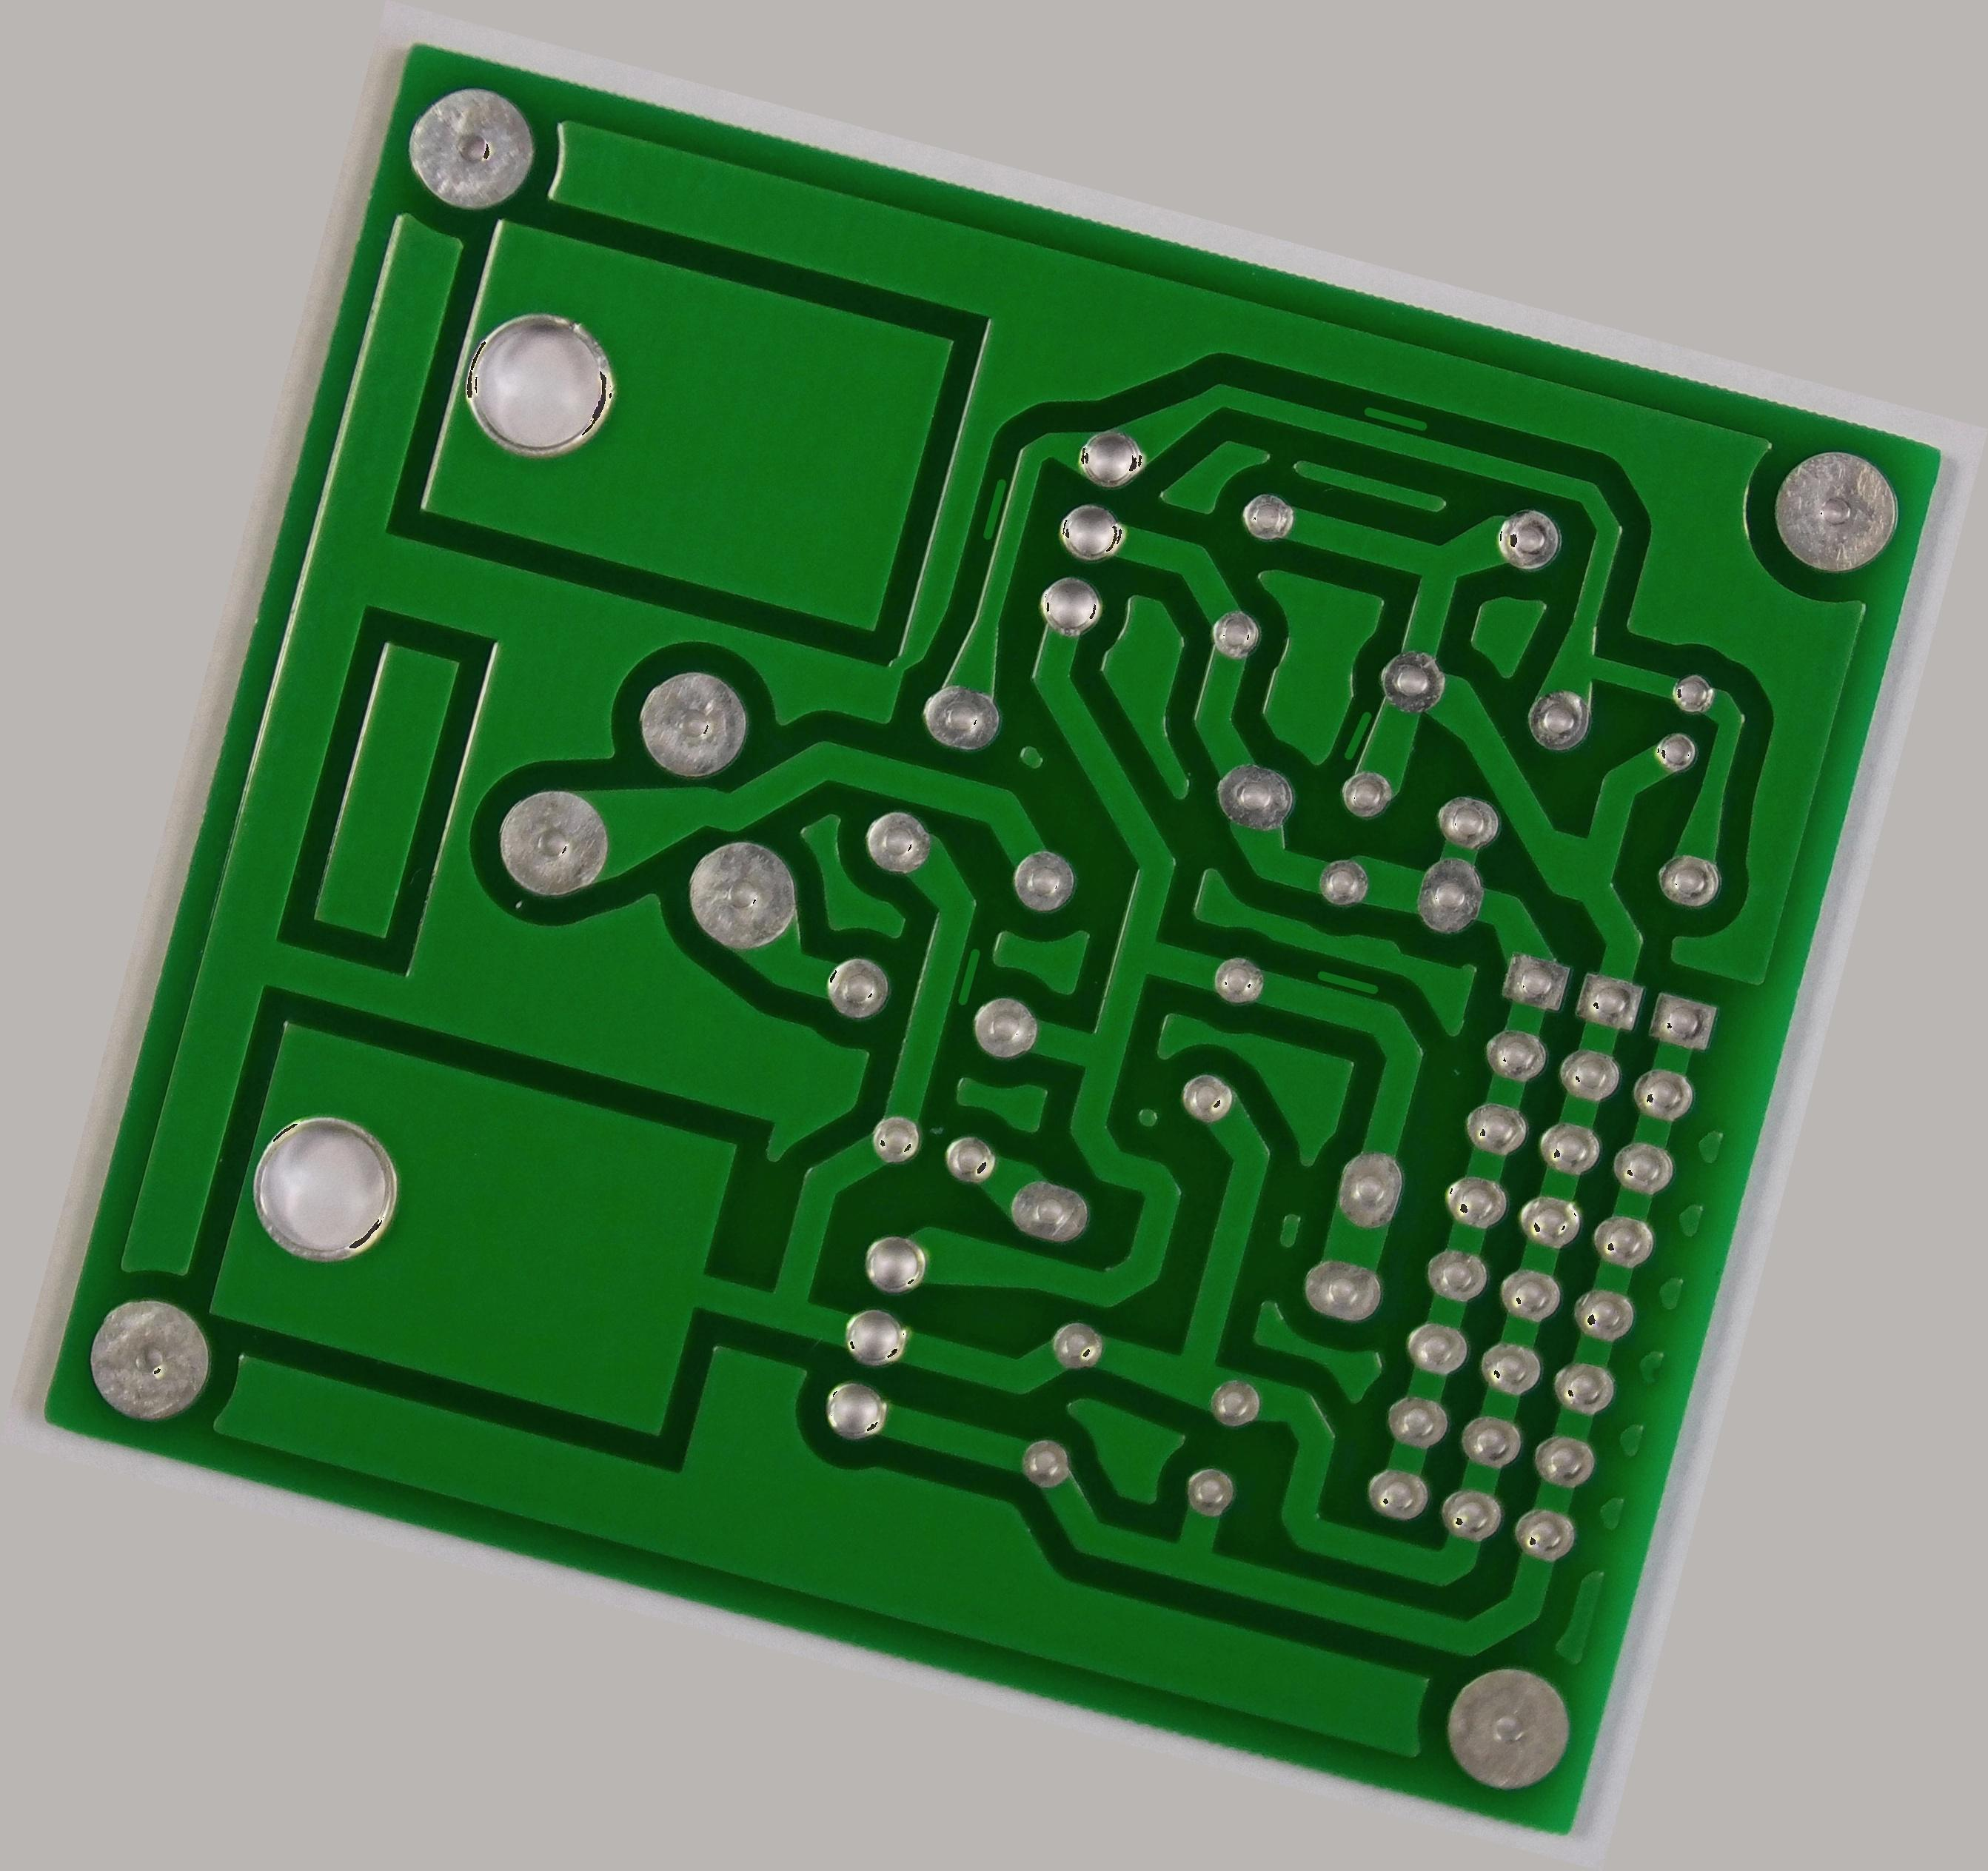spurious_copper: (1343, 382, 1447, 448), (1325, 695, 1389, 774), (939, 932, 995, 1020), (1302, 955, 1390, 1011), (969, 470, 1018, 545)
